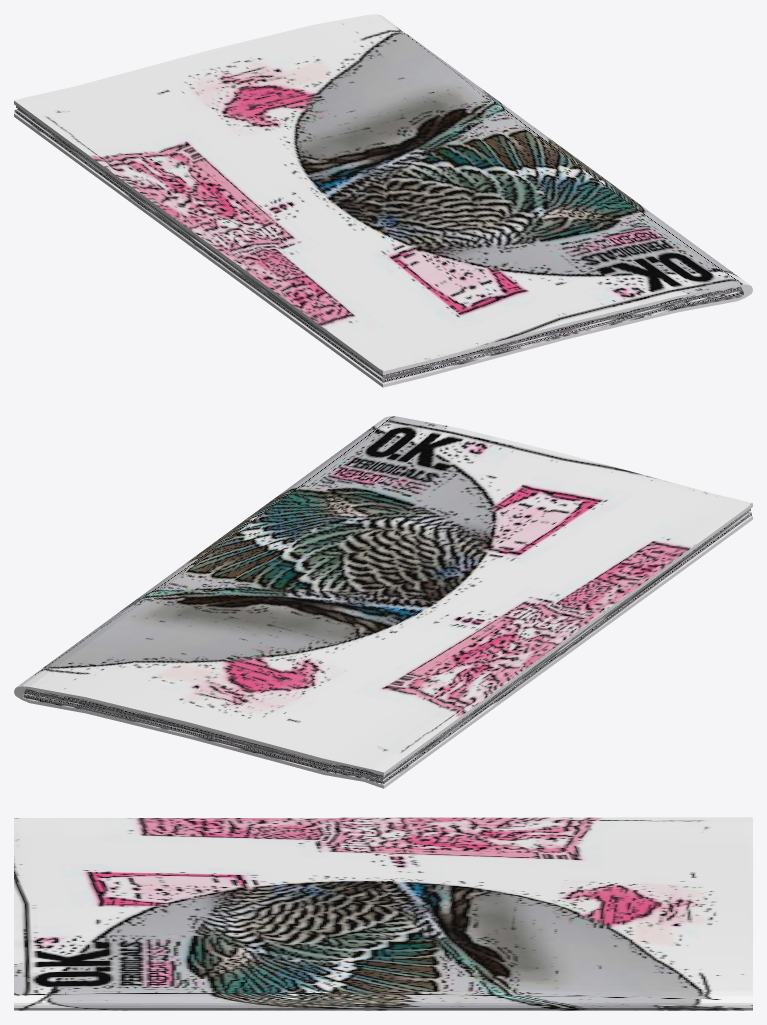
3 renders of one model, top to bottom at view 1: azimuth 30°, elevation 25°; view 2: azimuth 150°, elevation 25°; view 3: azimuth 270°, elevation 25°, orthographic.
Parts seen in each view (by area): view 1: Magazine; view 2: Magazine; view 3: Magazine.
Part boxes in pixels (x1,y1,x2,y2): Magazine: (14,14,752,387); Magazine: (14,416,752,788); Magazine: (14,817,752,1010).
Size of the model in its own units: 13.75 by 0.7024 by 23.75.
Materials: 1 (1 with a texture image).
